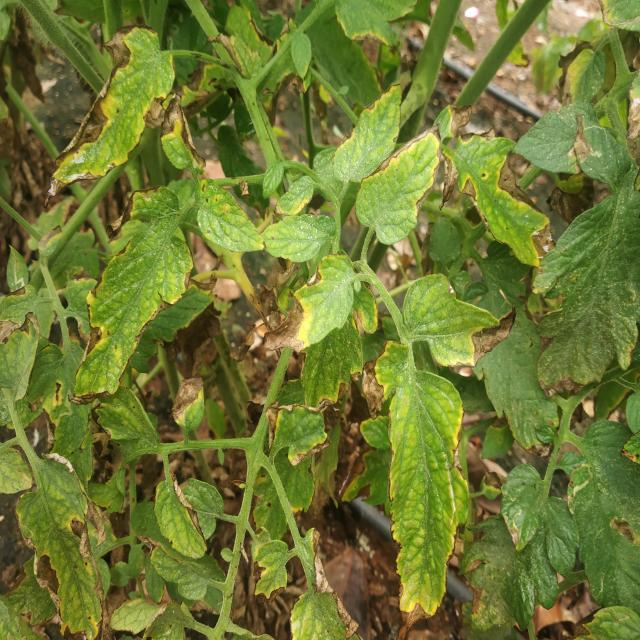Tomato mosaic virus leaf: (64, 182, 196, 409), (39, 20, 177, 210), (437, 96, 557, 274), (12, 448, 108, 640), (385, 480, 470, 640), (402, 273, 520, 371), (261, 250, 357, 354), (286, 524, 363, 640), (327, 79, 404, 185), (262, 392, 336, 469), (152, 469, 212, 563), (198, 177, 266, 254), (356, 338, 406, 424), (160, 90, 210, 174), (605, 482, 640, 570), (249, 539, 291, 609), (169, 373, 209, 433)
